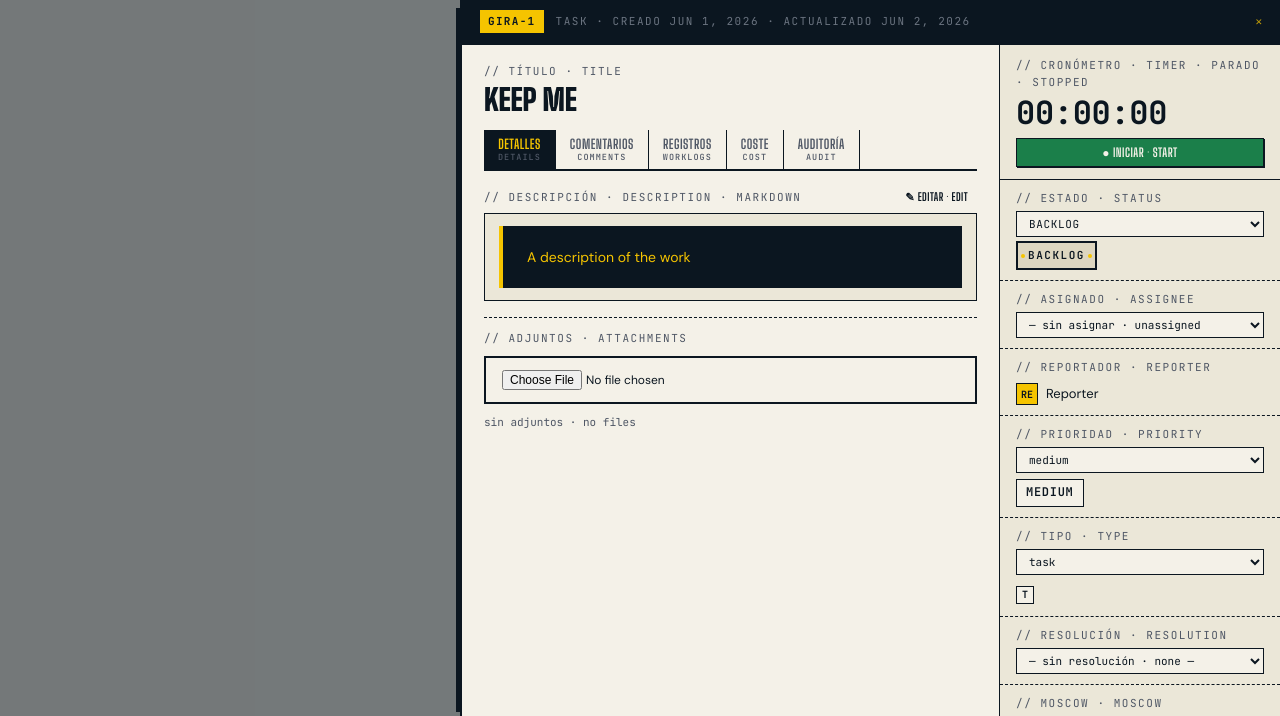
Test: IssueDrawer › closes the title editor on Escape without saving
The image size is (1280, 716).
Click the heading "Keep me".
click(530, 99)  # box x1=484 y1=81 x2=577 y2=117
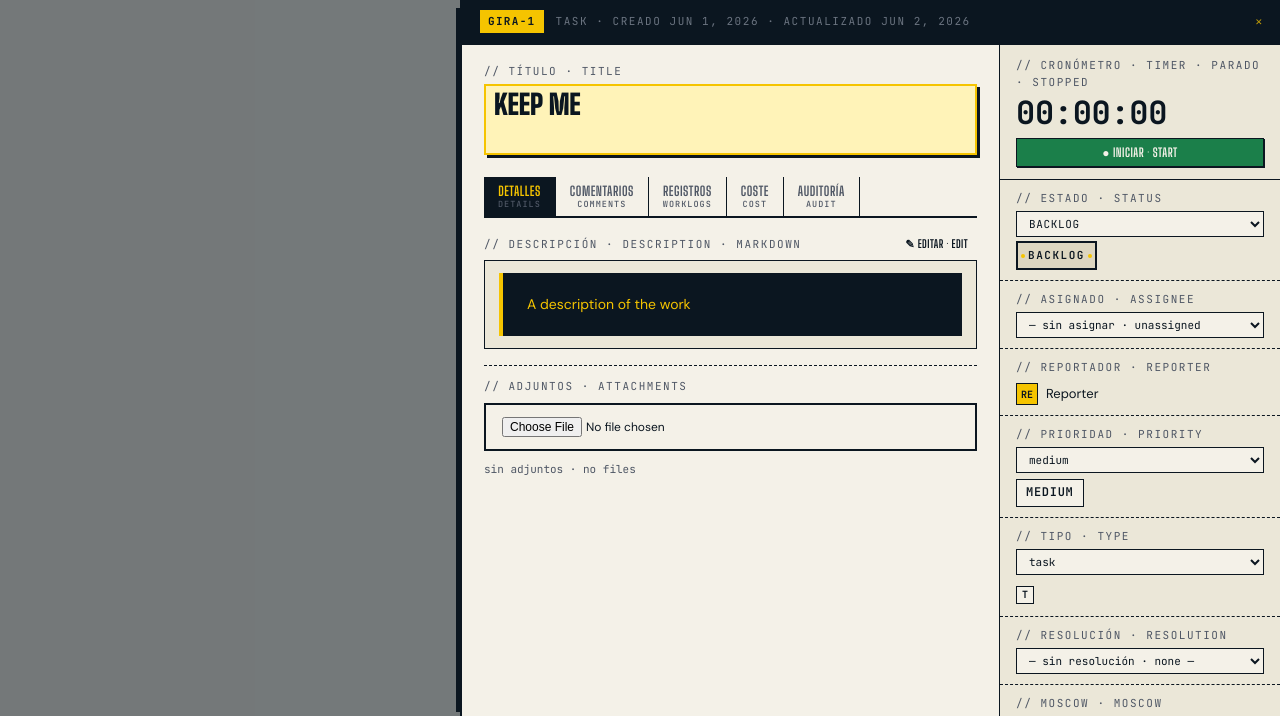
Type " edited" into the text box showing "Keep me".
click(730, 120); type(" edited")  # box x1=484 y1=84 x2=977 y2=155
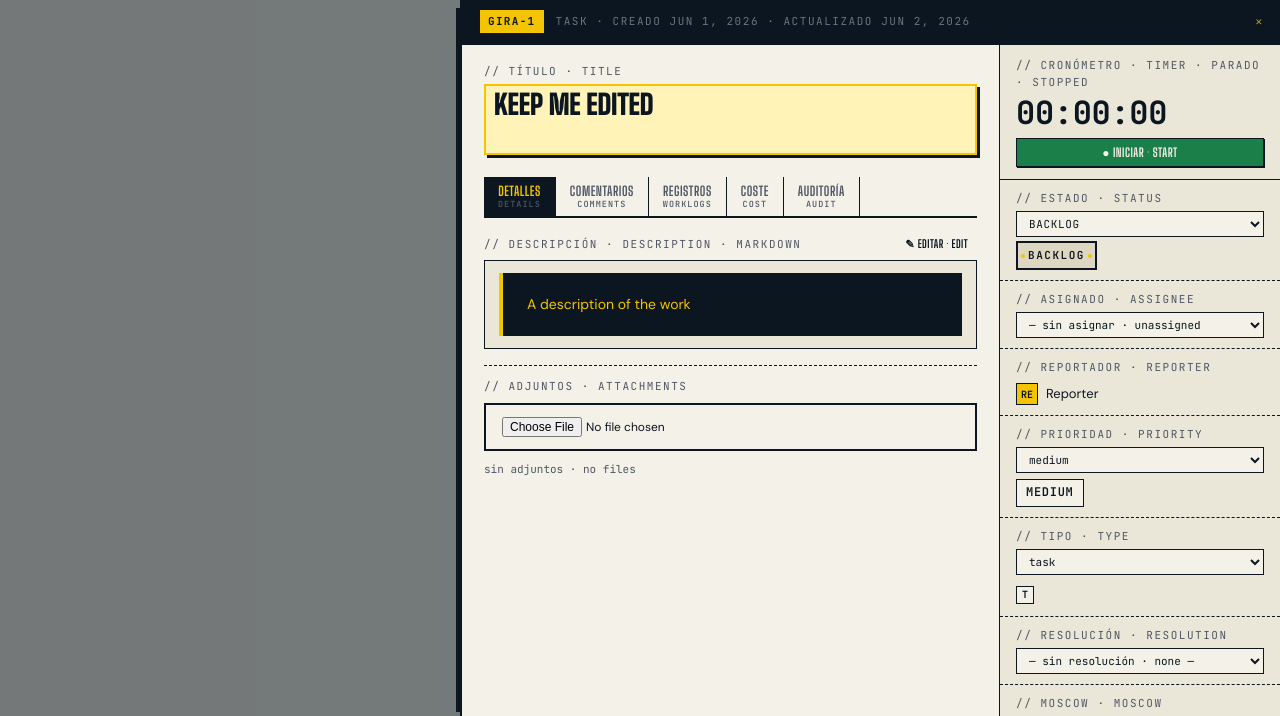
Press Escape
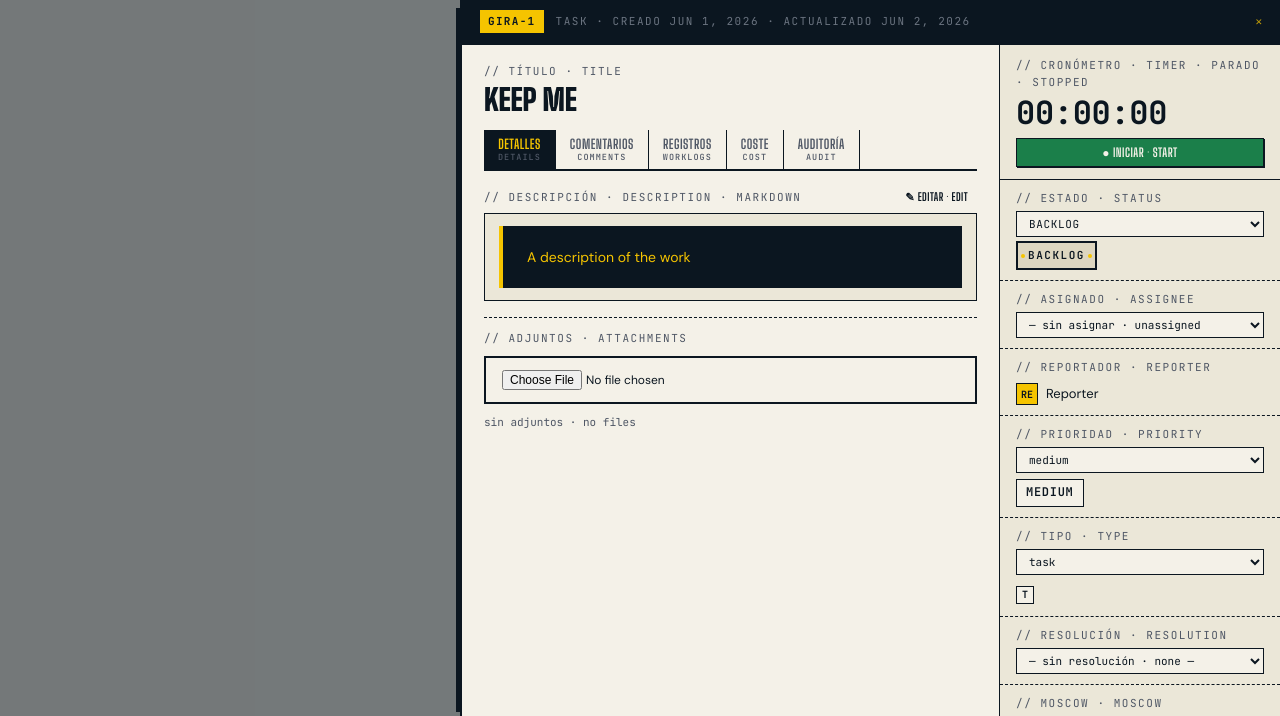
Result: the heading "Keep me" is shown at x1=484 y1=81 x2=577 y2=117
